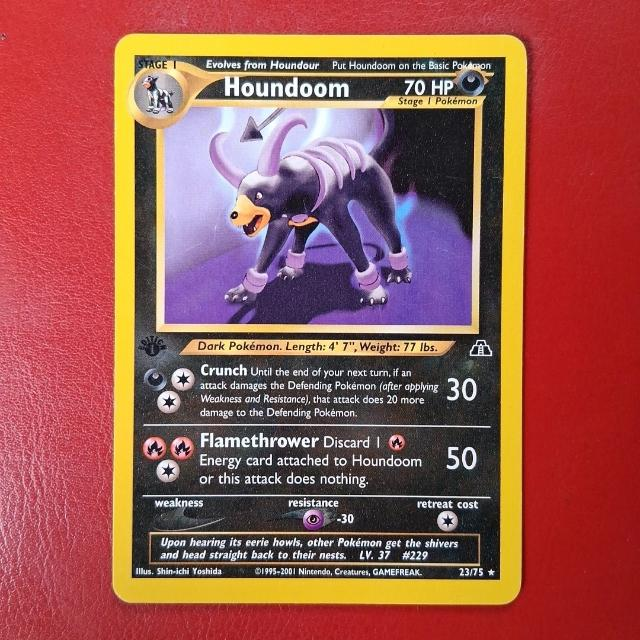Card: (110, 31, 529, 607)
Name: (216, 74, 360, 100)
